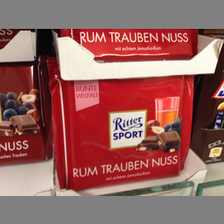chocolate: (51, 67, 193, 194), (1, 62, 50, 170)
